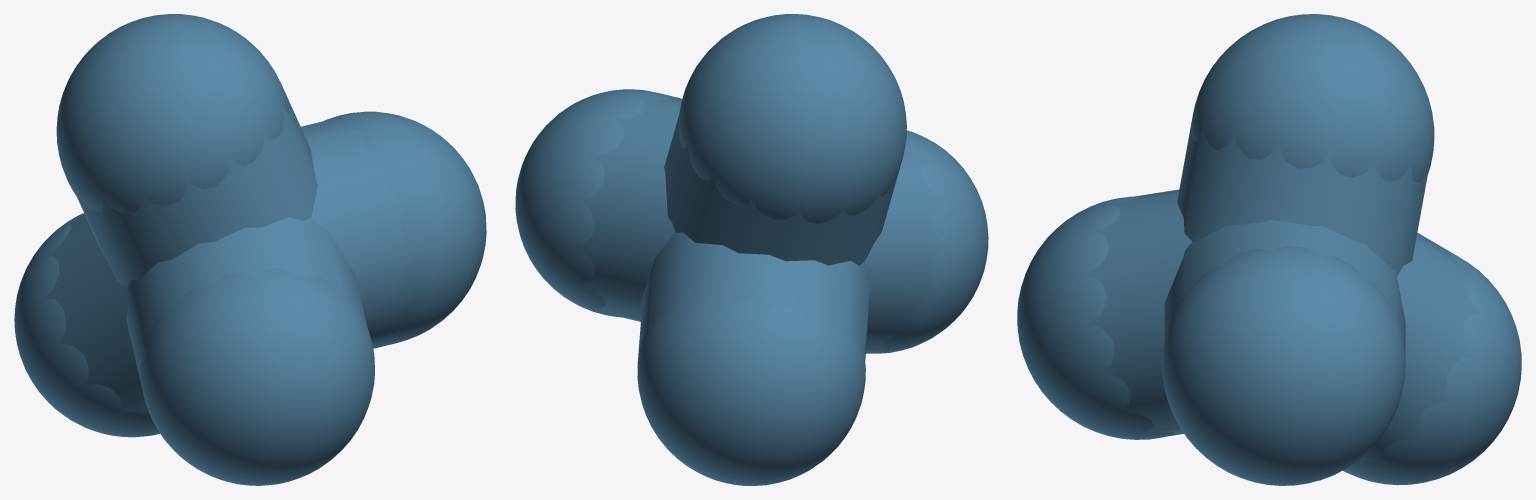
File: Metano-sticks-print_NIH3D.glb
3 views of the same model, side by side, from view 1: azimuth 30°, elevation 25°; view 2: azimuth 150°, elevation 25°; view 3: azimuth 270°, elevation 25° (orthographic). The views are drawn at different scales.
Visible parts, largest first — view 1: atoms, bonds; view 2: atoms, bonds; view 3: atoms, bonds.
Part boxes in pixels (<box>): atoms: <box>14,14,486,485</box>; bonds: <box>43,82,426,428</box>; atoms: <box>515,14,988,485</box>; bonds: <box>572,93,951,367</box>; atoms: <box>1017,14,1521,485</box>; bonds: <box>1083,115,1485,473</box>.
Size of the model in its own units: 3.03 by 3.25 by 3.31.
